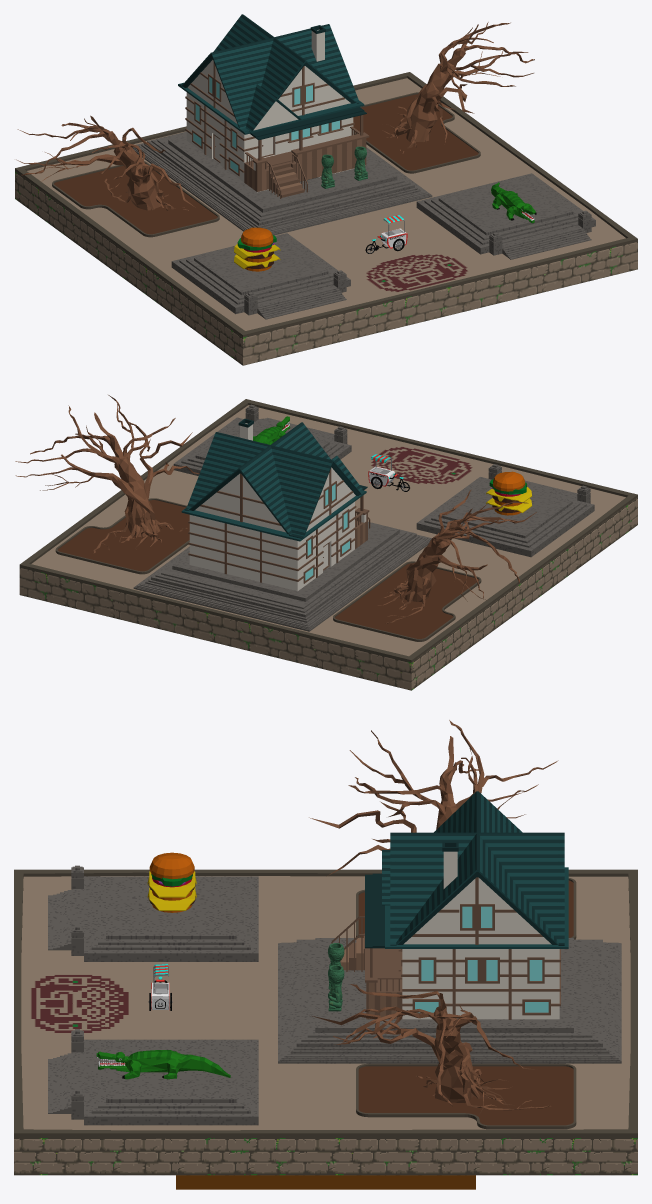
The picture shows the model from 3 angles, top to bottom: view 1: azimuth 30°, elevation 25°; view 2: azimuth 150°, elevation 25°; view 3: azimuth 270°, elevation 25°; orthographic projection. The views are drawn at different scales.
Parts seen in each view (by area): view 1: Cube.011, Cube.793, OBJRANDOM_HAMBURGER, ANIMAL_COCODRILO, VEHICLES_SNOWBAL_BIKE; view 2: Cube.011, Cube.793, OBJRANDOM_HAMBURGER, VEHICLES_SNOWBAL_BIKE, ANIMAL_COCODRILO; view 3: Cube.011, Cube.793, UNDERGROUND_ART_PIECE_VAN_GOGH, OBJRANDOM_HAMBURGER, ANIMAL_COCODRILO, VEHICLES_SNOWBAL_BIKE.
Part boxes in pixels (<box>): Cube.011: <box>15,22,637,365</box>; Cube.793: <box>178,14,369,198</box>; OBJRANDOM_HAMBURGER: <box>234,227,280,271</box>; ANIMAL_COCODRILO: <box>491,182,536,223</box>; VEHICLES_SNOWBAL_BIKE: <box>365,214,407,253</box>; Cube.011: <box>15,395,637,690</box>; Cube.793: <box>181,418,370,591</box>; OBJRANDOM_HAMBURGER: <box>486,471,532,515</box>; VEHICLES_SNOWBAL_BIKE: <box>368,454,409,491</box>; ANIMAL_COCODRILO: <box>253,416,290,444</box>; Cube.011: <box>14,720,637,1175</box>; Cube.793: <box>331,791,568,1019</box>; UNDERGROUND_ART_PIECE_VAN_GOGH: <box>176,1175,475,1189</box>; OBJRANDOM_HAMBURGER: <box>147,852,196,912</box>; ANIMAL_COCODRILO: <box>96,1050,230,1079</box>; VEHICLES_SNOWBAL_BIKE: <box>148,963,172,1010</box>.
Bounding box in the file's own units: 5099 × 1785 × 4000.
Materials: 32 (7 with a texture image).
